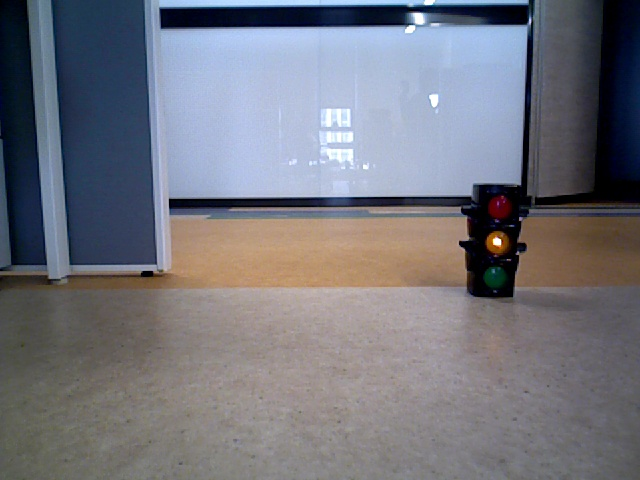yellow: (474, 188, 516, 296)
